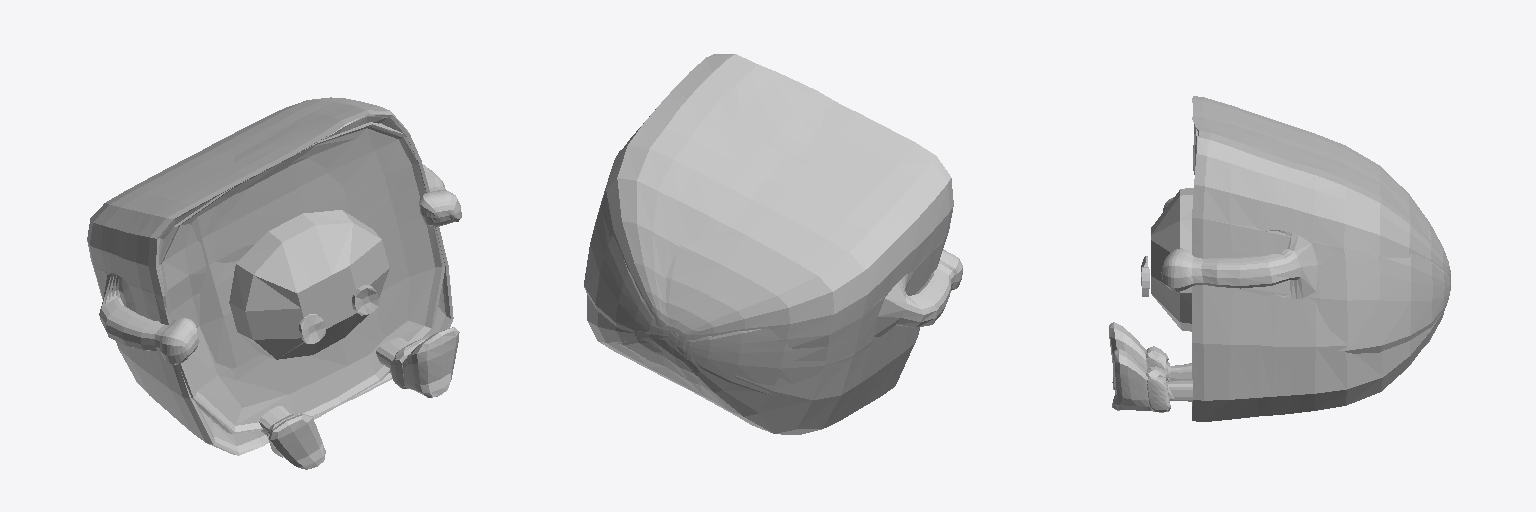
Rendered from Pal_000023.obj.
3 views of the same model, side by side, from view 1: azimuth 30°, elevation 25°; view 2: azimuth 150°, elevation 25°; view 3: azimuth 270°, elevation 25° (orthographic).
Visible parts, largest first — view 1: Cuerpo_de_aguacate_3.001_Cube.002, Hueso_Cubo.003, Ojos_Cubo.002; view 2: Cuerpo_de_aguacate_3.001_Cube.002; view 3: Cuerpo_de_aguacate_3.001_Cube.002, Hueso_Cubo.003.
Boxes of the visible parts, x1,y1,x2,y2 form: Cuerpo_de_aguacate_3.001_Cube.002: [87, 97, 461, 469]; Hueso_Cubo.003: [229, 210, 389, 359]; Ojos_Cubo.002: [299, 285, 378, 343]; Cuerpo_de_aguacate_3.001_Cube.002: [584, 54, 962, 434]; Cuerpo_de_aguacate_3.001_Cube.002: [1109, 96, 1450, 421]; Hueso_Cubo.003: [1151, 188, 1193, 331].
Size of the model in its own units: 1.08 by 1 by 1.01.